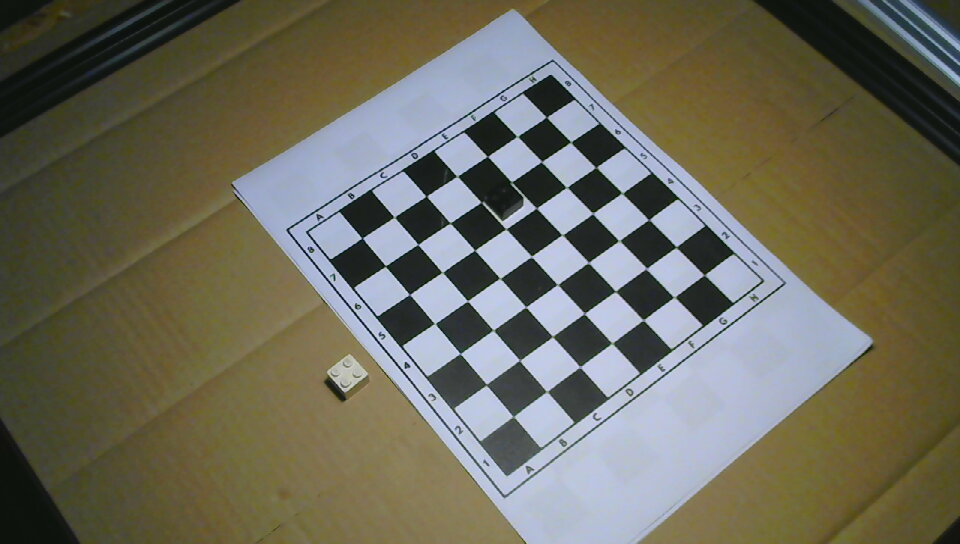bp: (485, 181, 525, 221)
wp: (325, 353, 371, 402)
